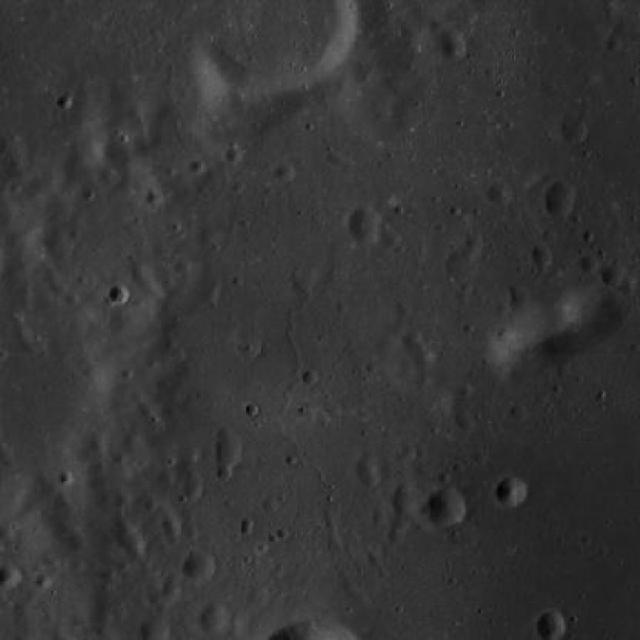crater: (196, 0, 359, 97), (0, 319, 112, 459), (424, 488, 464, 526), (346, 208, 383, 244), (543, 185, 577, 218), (444, 248, 478, 281), (198, 602, 232, 635), (182, 552, 215, 582), (534, 612, 566, 640), (40, 230, 72, 258), (496, 478, 526, 507), (212, 434, 242, 462), (559, 115, 587, 143), (448, 522, 476, 550), (439, 33, 467, 59), (484, 182, 512, 208), (120, 531, 146, 557), (0, 562, 22, 590), (600, 263, 626, 286), (179, 477, 204, 500), (392, 492, 417, 514), (62, 532, 86, 554), (198, 223, 222, 244), (238, 338, 260, 360), (112, 518, 134, 540), (272, 163, 294, 183), (532, 246, 554, 266), (508, 296, 530, 316), (414, 350, 436, 370), (380, 228, 400, 248), (454, 410, 474, 430), (112, 490, 132, 510), (108, 286, 128, 305), (161, 582, 181, 601), (87, 433, 107, 452), (509, 283, 528, 302), (353, 68, 373, 86), (579, 254, 599, 272), (357, 460, 375, 480), (223, 148, 242, 166), (618, 278, 636, 297), (174, 258, 193, 276), (98, 565, 116, 584), (0, 446, 17, 466), (188, 158, 206, 176), (34, 572, 52, 590), (403, 330, 422, 347), (386, 526, 404, 543), (10, 600, 28, 617), (98, 166, 115, 183), (396, 443, 413, 460), (392, 514, 408, 532), (146, 189, 162, 206), (509, 404, 526, 420), (129, 262, 146, 278), (164, 522, 181, 538), (370, 508, 387, 524), (366, 549, 382, 565), (0, 524, 14, 542), (428, 17, 444, 32)
